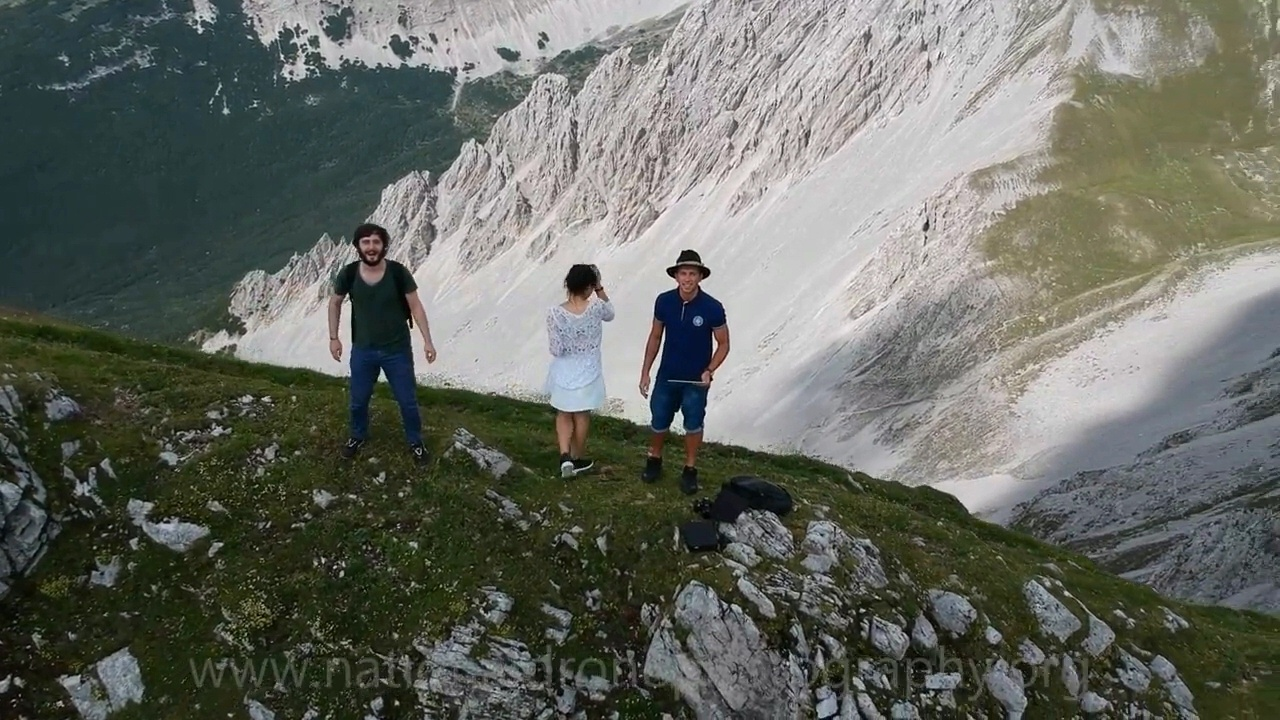insan: (325, 226, 438, 462), (642, 249, 729, 489), (547, 258, 615, 472)
